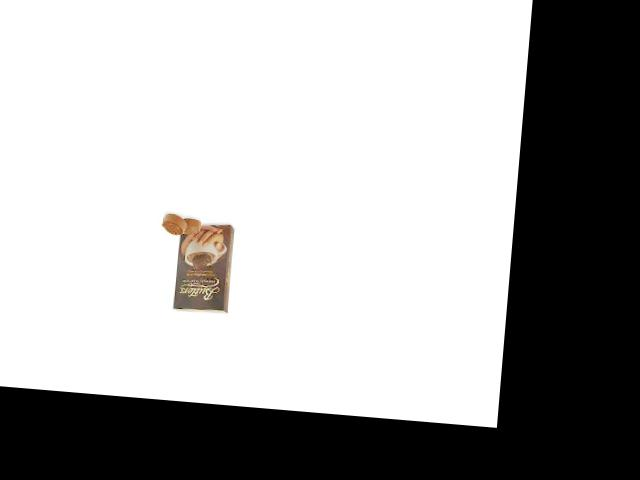chocolate: (165, 217, 238, 318)
